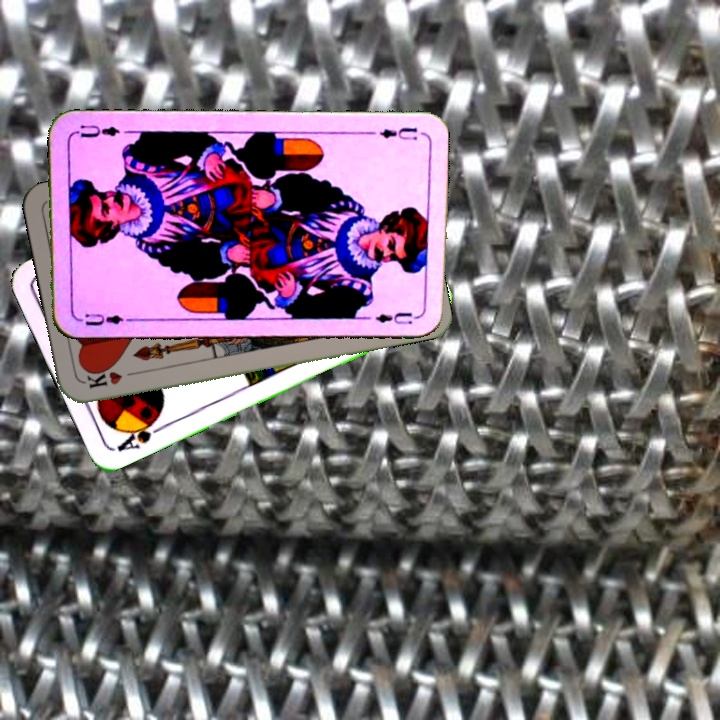EU: (72, 309, 131, 329), (376, 123, 420, 142)
HK: (82, 366, 141, 391)
SA: (112, 412, 167, 454)
